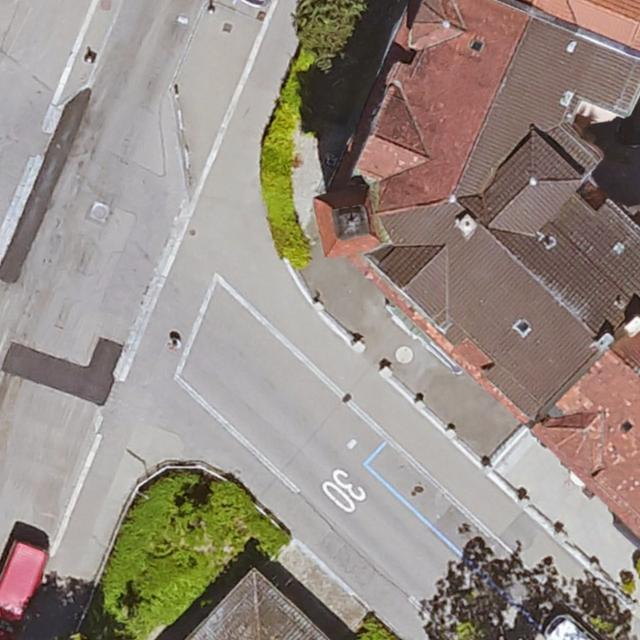tree: (295, 0, 371, 63)
